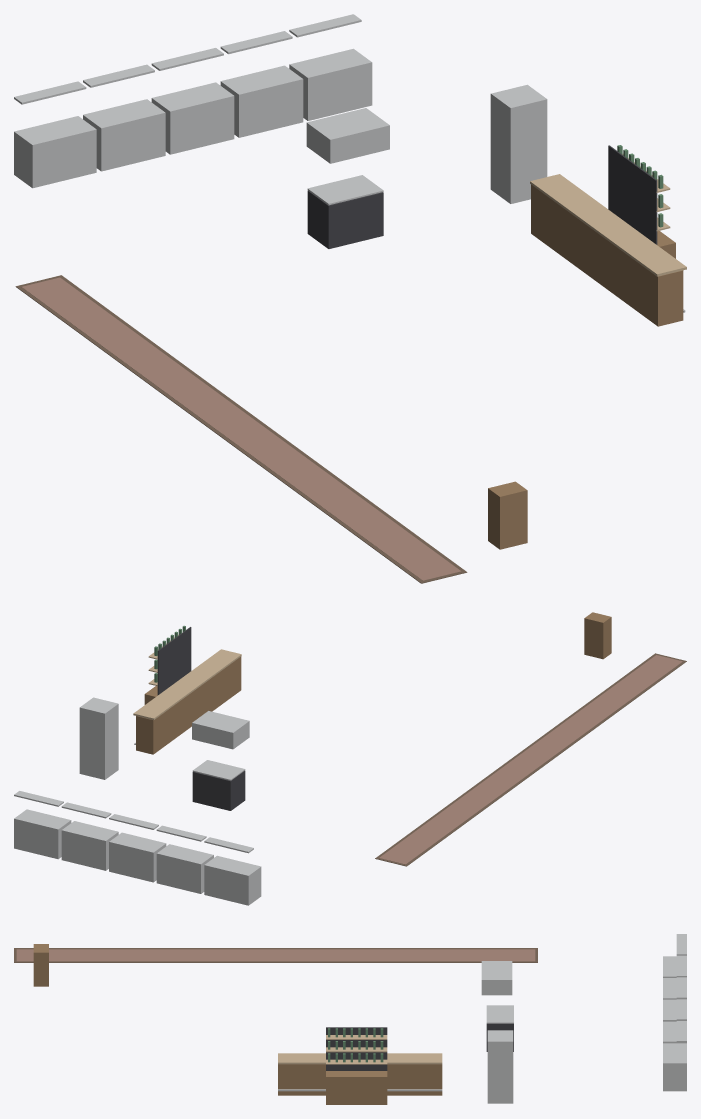
Rendered from fine-s0.glb.
The picture shows the model from 3 angles, top to bottom: view 1: azimuth 30°, elevation 25°; view 2: azimuth 150°, elevation 25°; view 3: azimuth 270°, elevation 25°; orthographic projection. The views are drawn at different scales.
Visible parts, largest first — view 1: soft-s0, range.000, fridge.000, kitchen-counter.000, kitchen-counter.002, kitchen-counter.003, kitchen-counter.004, kitchen-counter.001, back-bar.000, bar-counter.003, bar-counter.002, bar-counter.001 (+2 smaller); view 2: soft-s0, range.000, fridge.000, kitchen-counter.000, kitchen-counter.001, kitchen-counter.003, kitchen-counter.002, kitchen-counter.004, back-bar.000, bar-counter.000, bar-counter.003, bar-counter.001 (+2 smaller); view 3: soft-s0, back-bar.000, fridge.000, range.000, bar-counter.000, bar-counter.003, kitchen-counter.004, host-stand.000, bar-counter.001, kitchen-counter.003, kitchen-counter.002, kitchen-counter.001 (+2 smaller).
Boxes of the visible parts, <box> form: soft-s0: <box>15,275,467,583</box>; range.000: <box>306,108,389,248</box>; fridge.000: <box>490,84,547,203</box>; kitchen-counter.000: <box>14,81,96,188</box>; kitchen-counter.002: <box>151,48,234,154</box>; kitchen-counter.003: <box>220,31,303,137</box>; kitchen-counter.004: <box>289,14,372,120</box>; kitchen-counter.001: <box>83,64,165,171</box>; back-bar.000: <box>608,145,675,258</box>; bar-counter.003: <box>625,244,686,326</box>; bar-counter.002: <box>593,220,654,302</box>; bar-counter.001: <box>561,197,622,279</box>; soft-s0: <box>375,653,686,866</box>; range.000: <box>192,711,249,810</box>; fridge.000: <box>79,697,118,779</box>; kitchen-counter.000: <box>204,837,261,905</box>; kitchen-counter.001: <box>156,825,213,893</box>; kitchen-counter.003: <box>61,802,118,870</box>; kitchen-counter.002: <box>109,814,166,882</box>; kitchen-counter.004: <box>14,791,71,859</box>; back-bar.000: <box>144,625,191,704</box>; bar-counter.000: <box>133,697,175,754</box>; bar-counter.003: <box>199,649,241,705</box>; bar-counter.001: <box>155,681,197,738</box>; soft-s0: <box>14,948,537,962</box>; back-bar.000: <box>326,1027,387,1104</box>; fridge.000: <box>487,1030,513,1103</box>; range.000: <box>481,961,513,1051</box>; bar-counter.000: <box>401,1053,442,1095</box>; bar-counter.003: <box>278,1053,318,1095</box>; kitchen-counter.004: <box>663,1021,686,1091</box>; host-stand.000: <box>33,944,48,986</box>; bar-counter.001: <box>387,1053,400,1095</box>; kitchen-counter.003: <box>663,999,686,1043</box>; kitchen-counter.002: <box>663,977,686,1021</box>; kitchen-counter.001: <box>663,955,686,999</box>.
Size of the model in its own units: 10.81 by 2.35 by 19.66.
